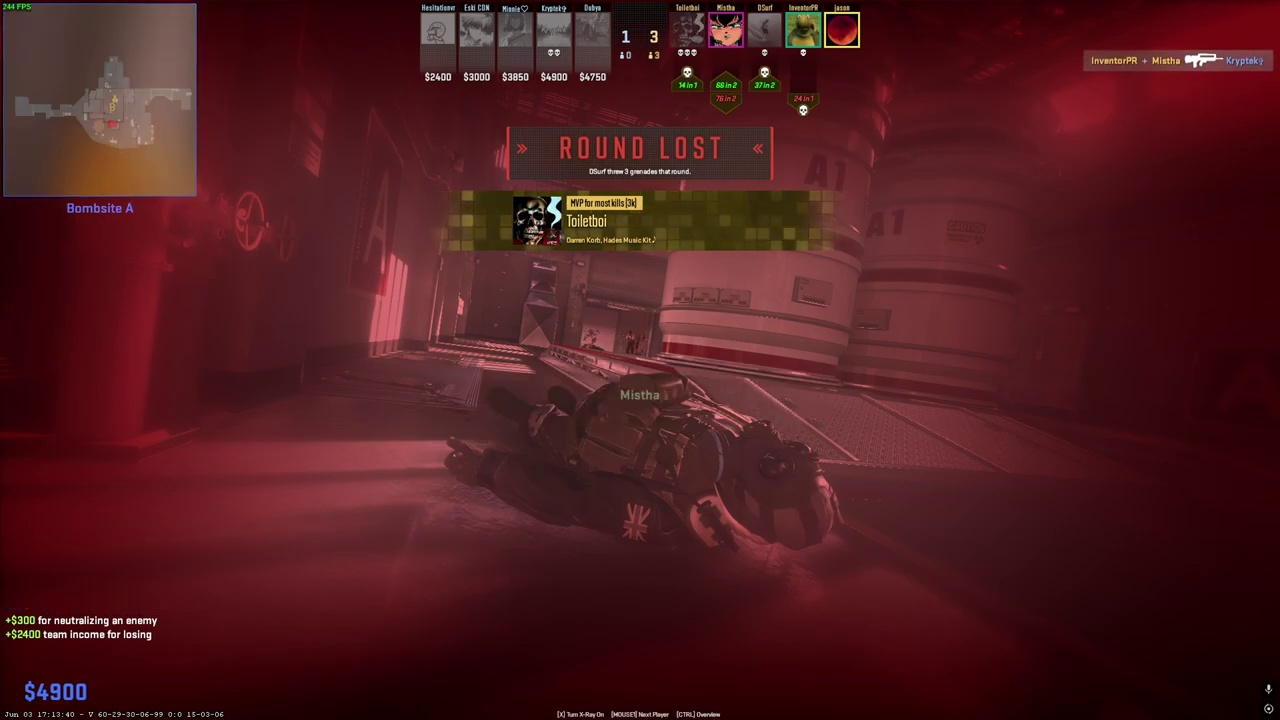Terrorist: (626, 330, 636, 355)
